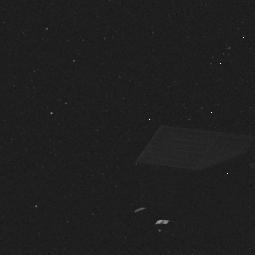cheops: (136, 124, 252, 182)
